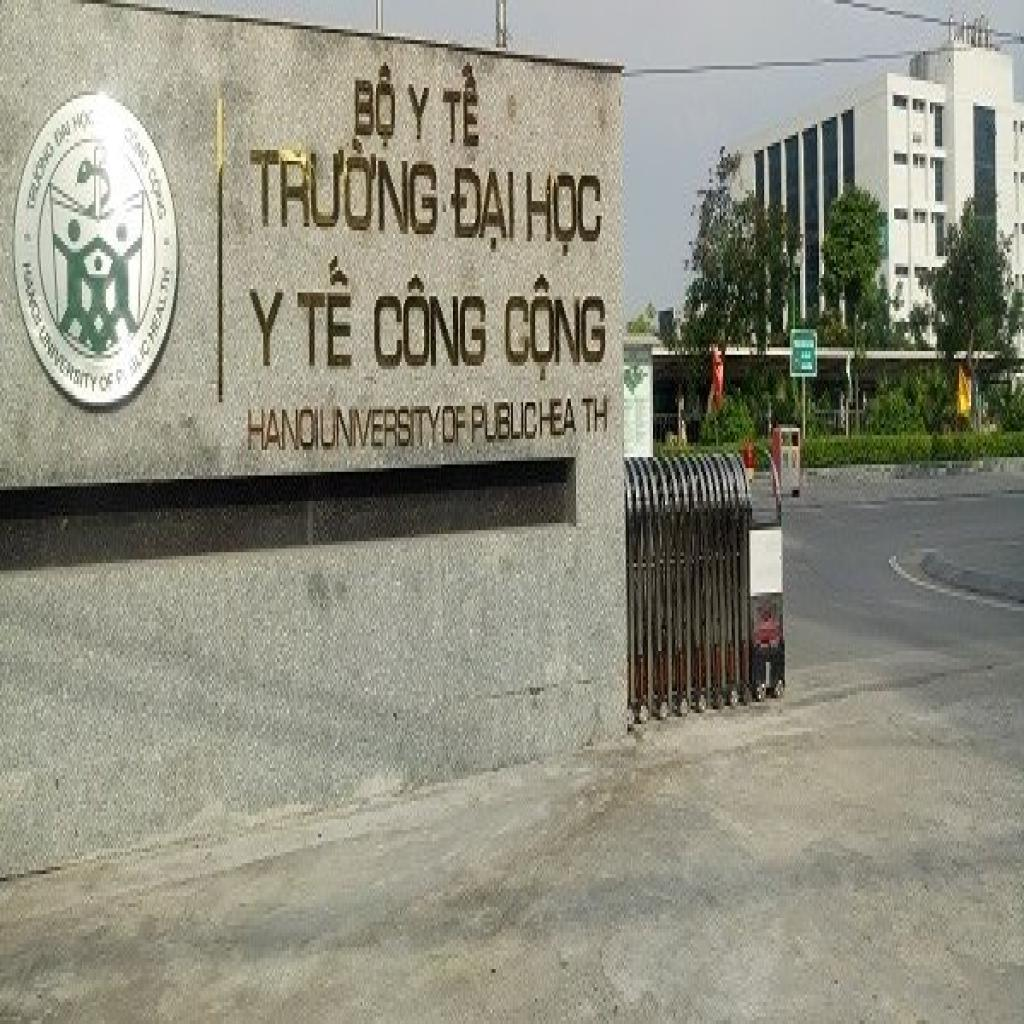text: (248, 128, 441, 238), (504, 274, 609, 388), (373, 274, 489, 373), (525, 168, 603, 260), (297, 256, 354, 369), (450, 165, 516, 256), (321, 406, 443, 453), (31, 326, 99, 402), (352, 59, 398, 157), (441, 62, 482, 150), (248, 406, 321, 453), (472, 399, 540, 446), (538, 395, 610, 439), (21, 128, 58, 212), (248, 289, 285, 369), (147, 264, 174, 358), (145, 161, 173, 227), (121, 117, 154, 172), (19, 260, 44, 332), (407, 80, 434, 146), (443, 406, 468, 446), (72, 106, 97, 139), (53, 117, 75, 154), (99, 369, 116, 395)
